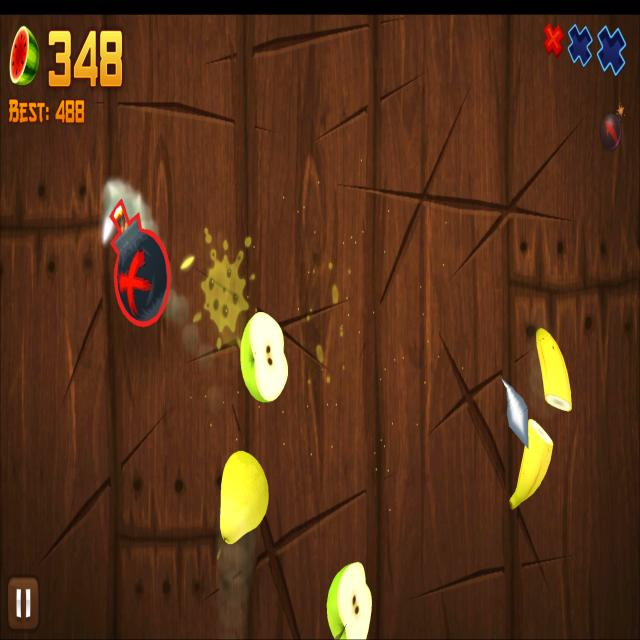bomb: (109, 197, 172, 327)
fruit: (218, 452, 270, 547)
